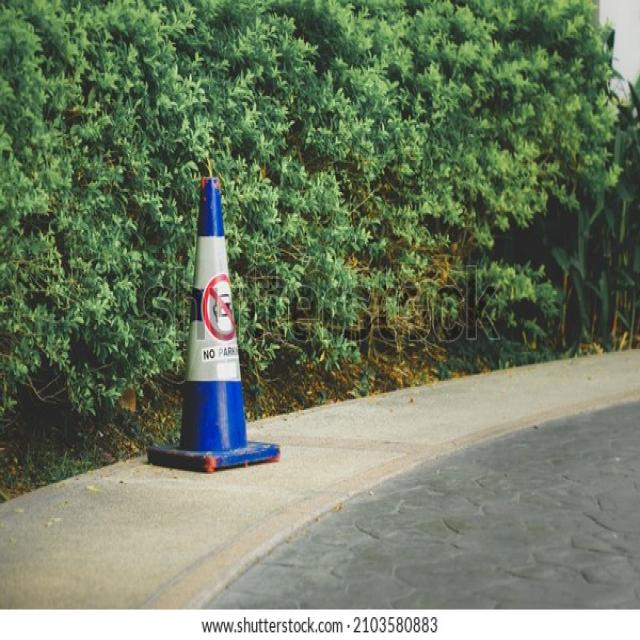Traffic sign: (193, 266, 252, 373)
